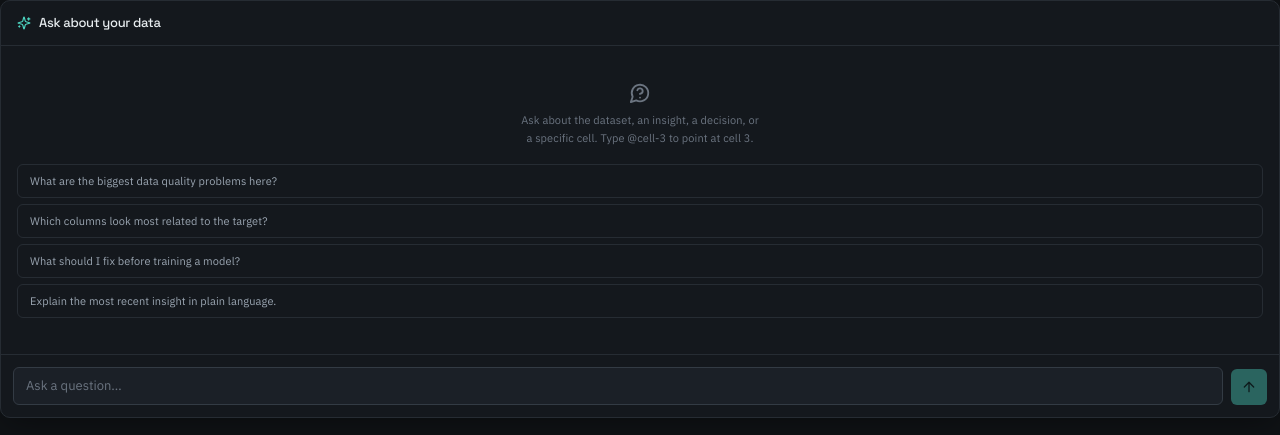
ChatPanel › sends a question and refreshes the history
This screenshot has width=1280, height=435.
In the text box with placeholder "Ask a question…": (618, 386) 13,367 -> 1223,405, type "how many rows?"
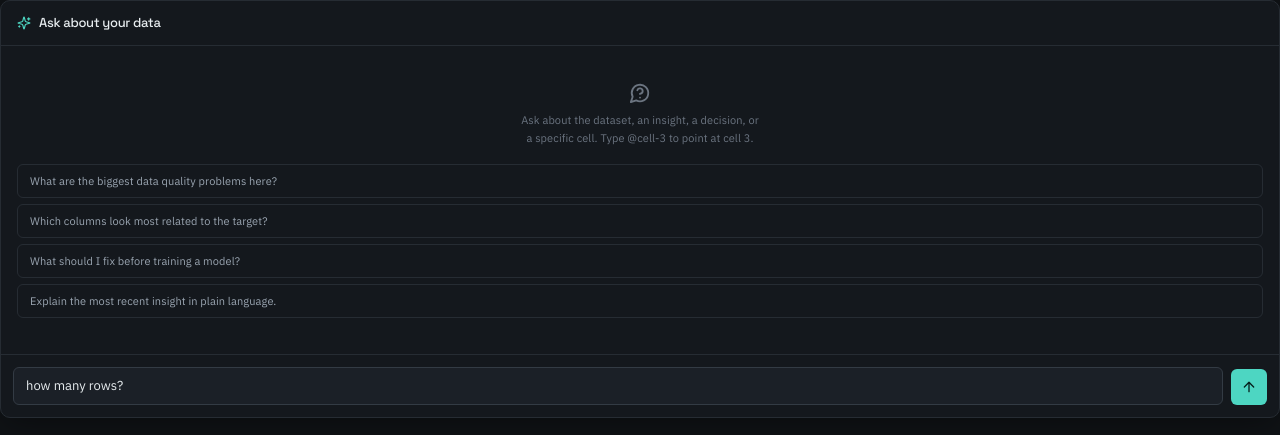
Click the button named "ask": (1249, 387) 1231,369 -> 1267,405
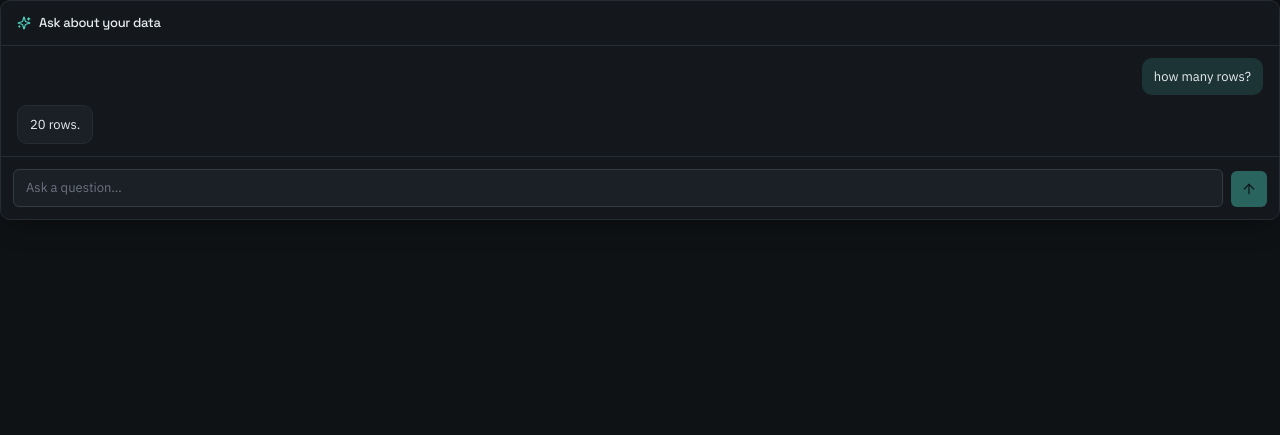
expect the text "20 rows." is shown: met, box 30,114 -> 80,135
